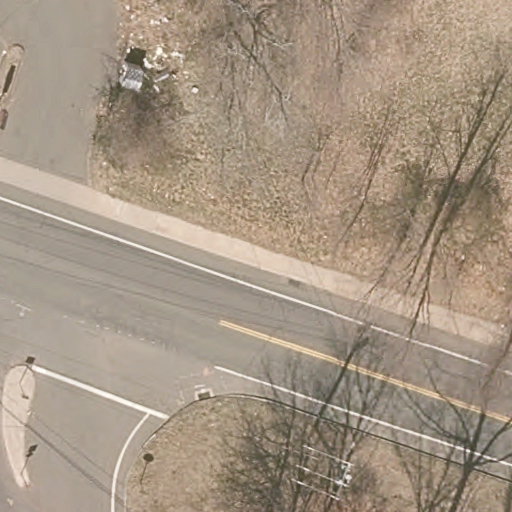DT: (293, 439, 359, 500)
